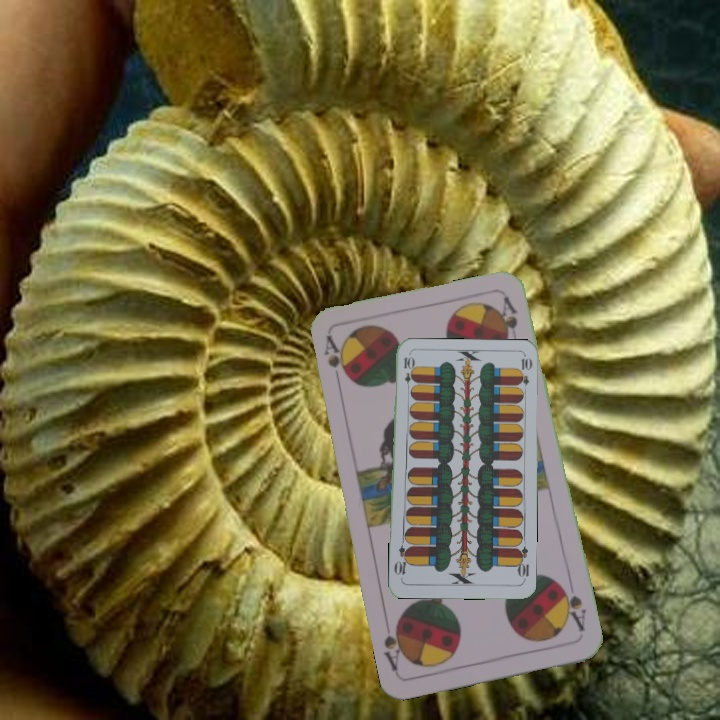E10: (512, 543, 531, 583), (400, 353, 414, 393)
SA: (319, 332, 350, 390), (556, 580, 589, 634)
